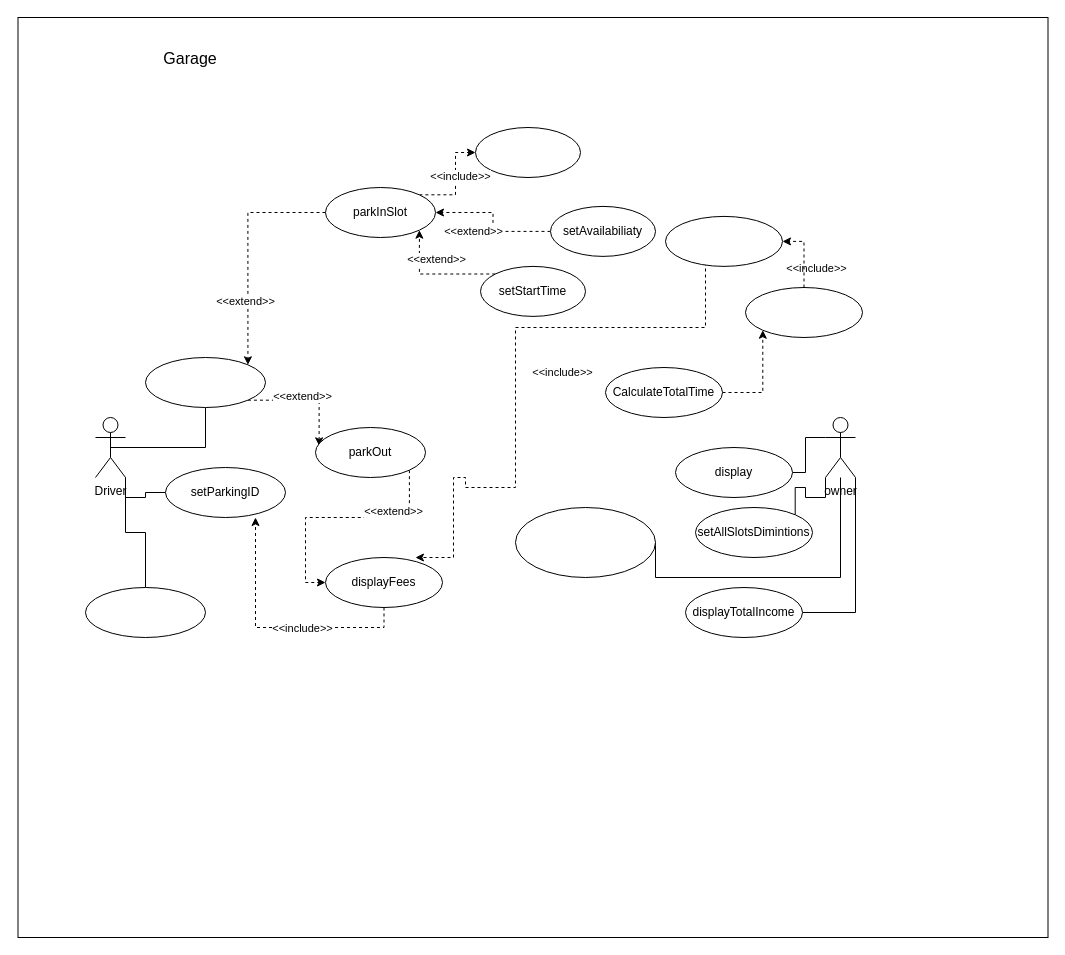
This 1065x955 diagram has some shape labels left out. Each missing label, with the centre of its shape:
"addIncome" belongs at pixel 723 240.
"calculateFees" belongs at pixel 803 312.
"searchForSlot" belongs at pixel 527 152.
"setConfiguration" belongs at pixel 585 542.
"setVehicleInfo" belongs at pixel 145 612.
"touch" belongs at pixel 205 382.
